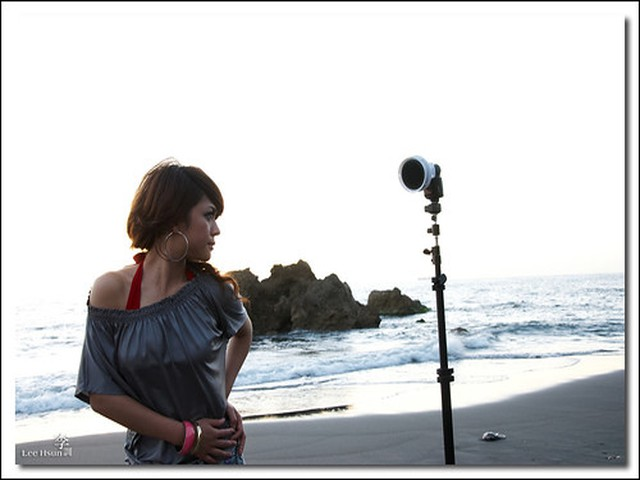Person: (74, 155, 268, 459)
